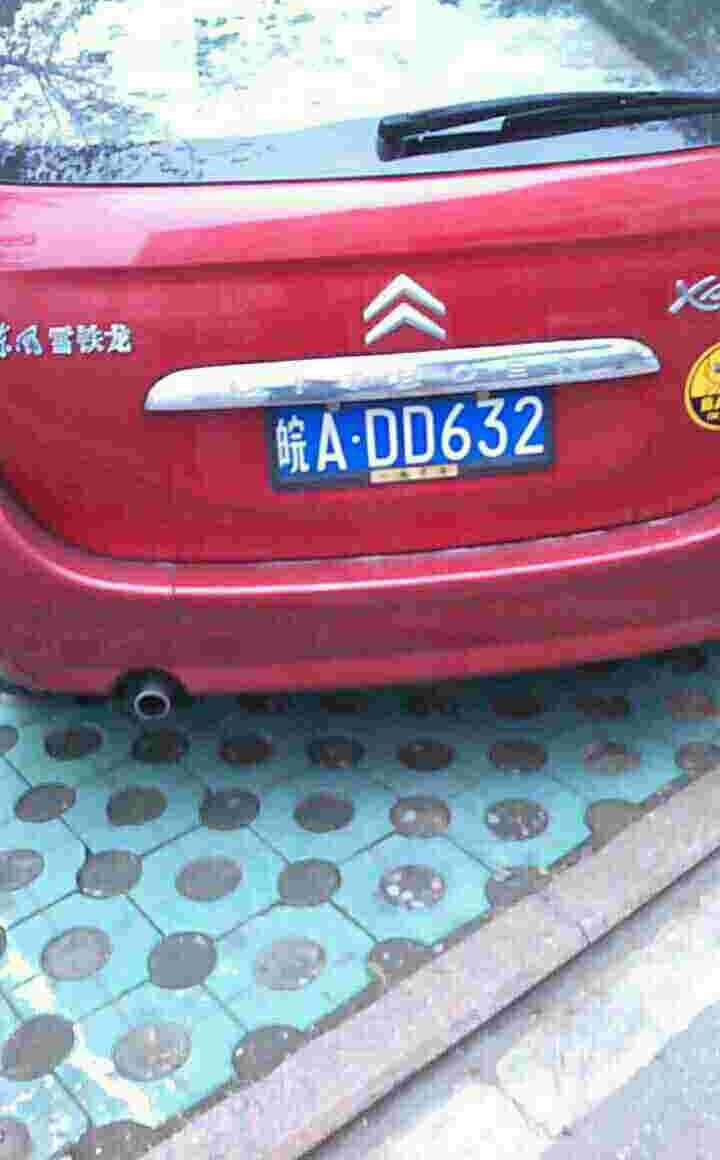license_plate: (273, 395, 543, 466)
